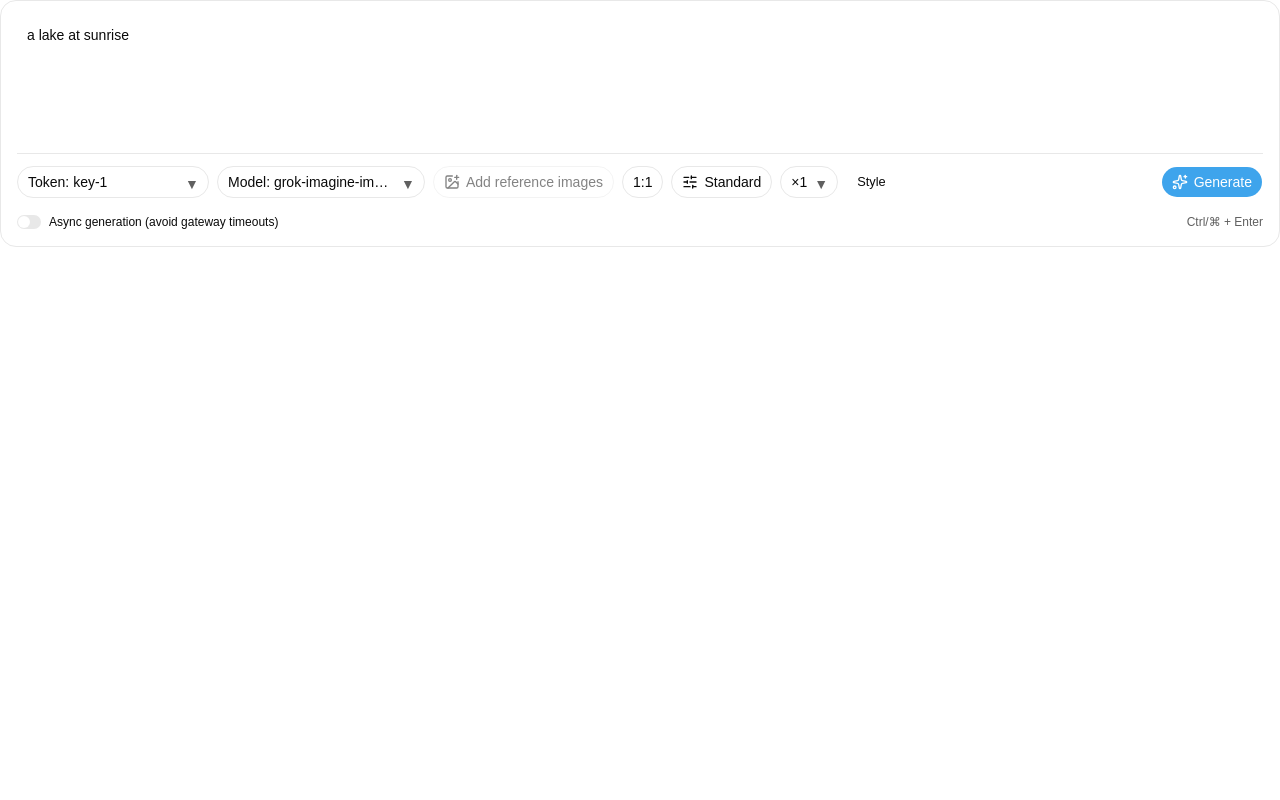
Console ratios expose orientation tiles and close the size panel after selection
Click the button named "Size".
click(643, 182)  # box [622,166,664,198]
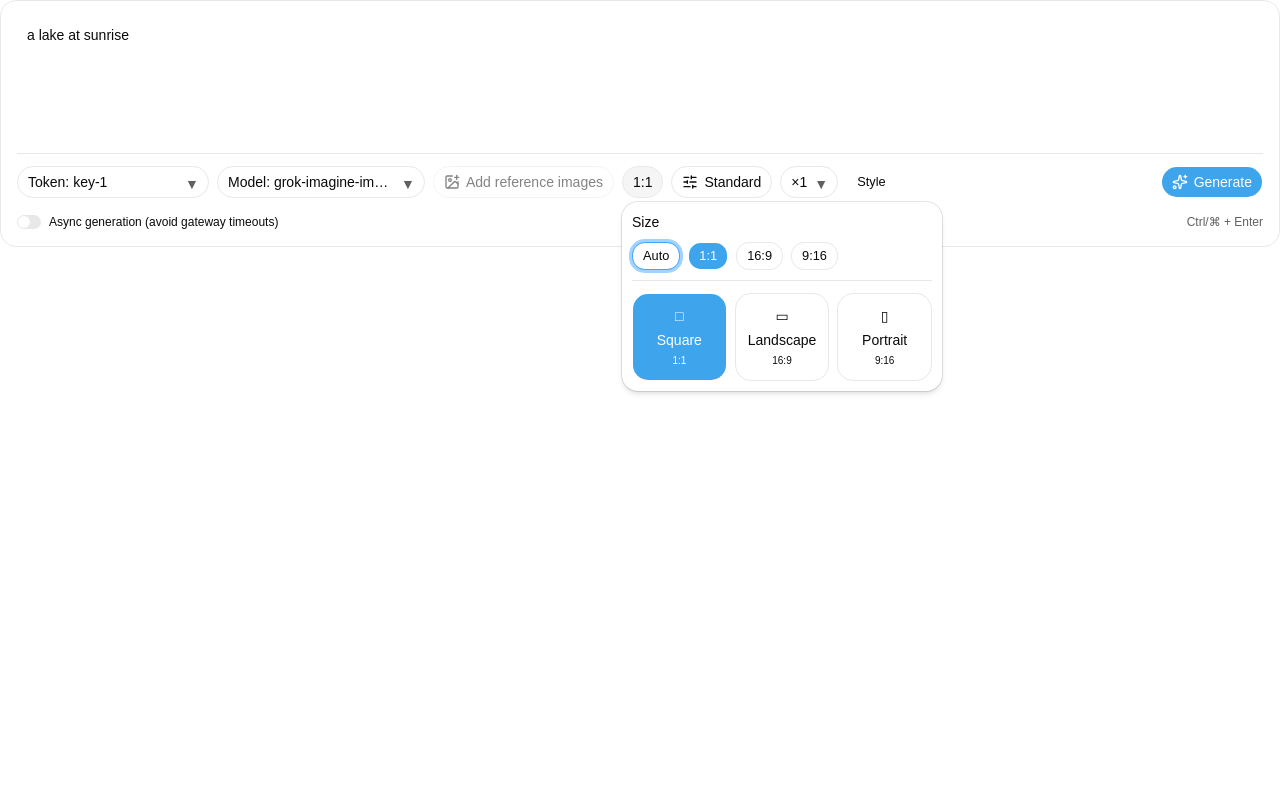
Click the button "▭ Landscape 16:9".
click(782, 337)  # box [735,293,829,381]
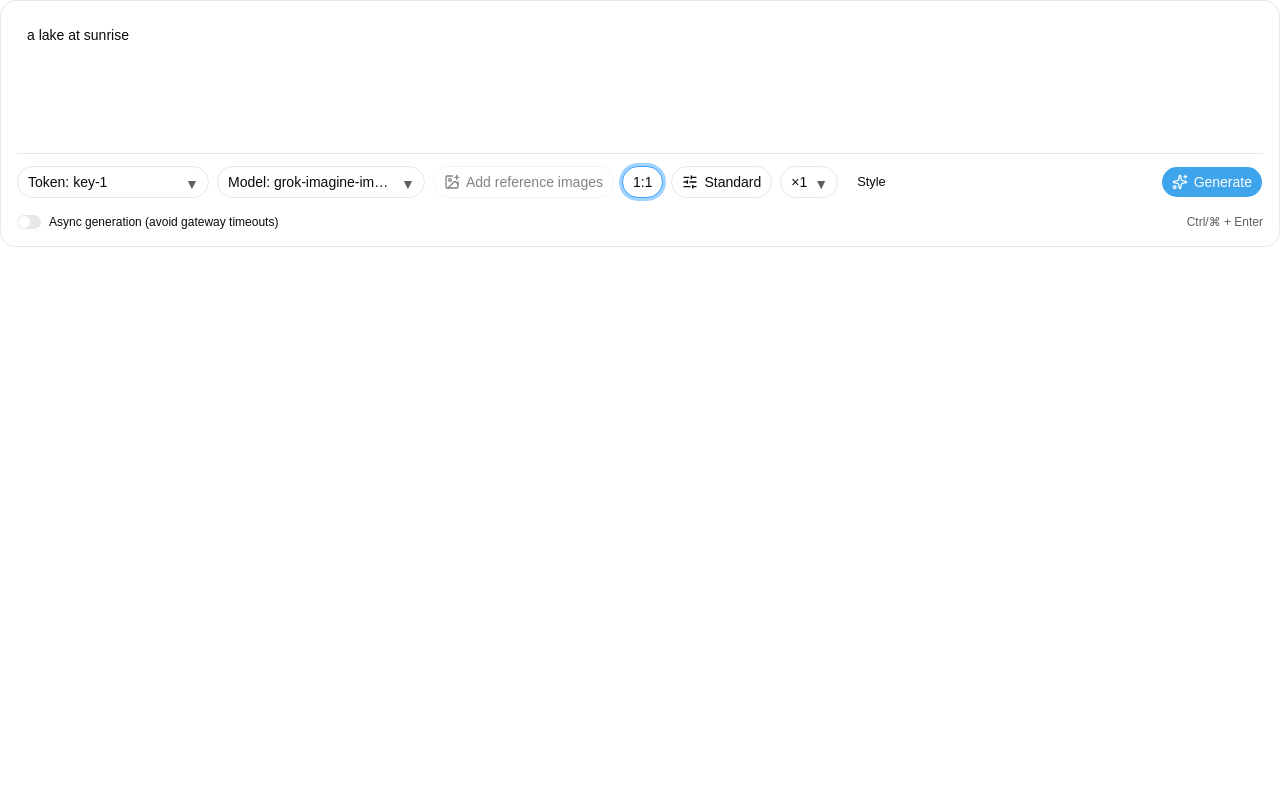
Result: the button named "Size" is collapsed at [622,166,664,198]
